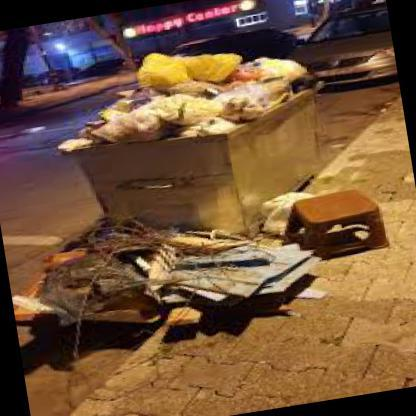Garbage: (28, 200, 294, 392), (38, 19, 326, 148), (131, 38, 247, 92), (195, 82, 294, 127), (143, 86, 224, 132), (223, 52, 308, 92), (142, 110, 242, 142), (96, 107, 172, 148), (58, 126, 96, 152)
